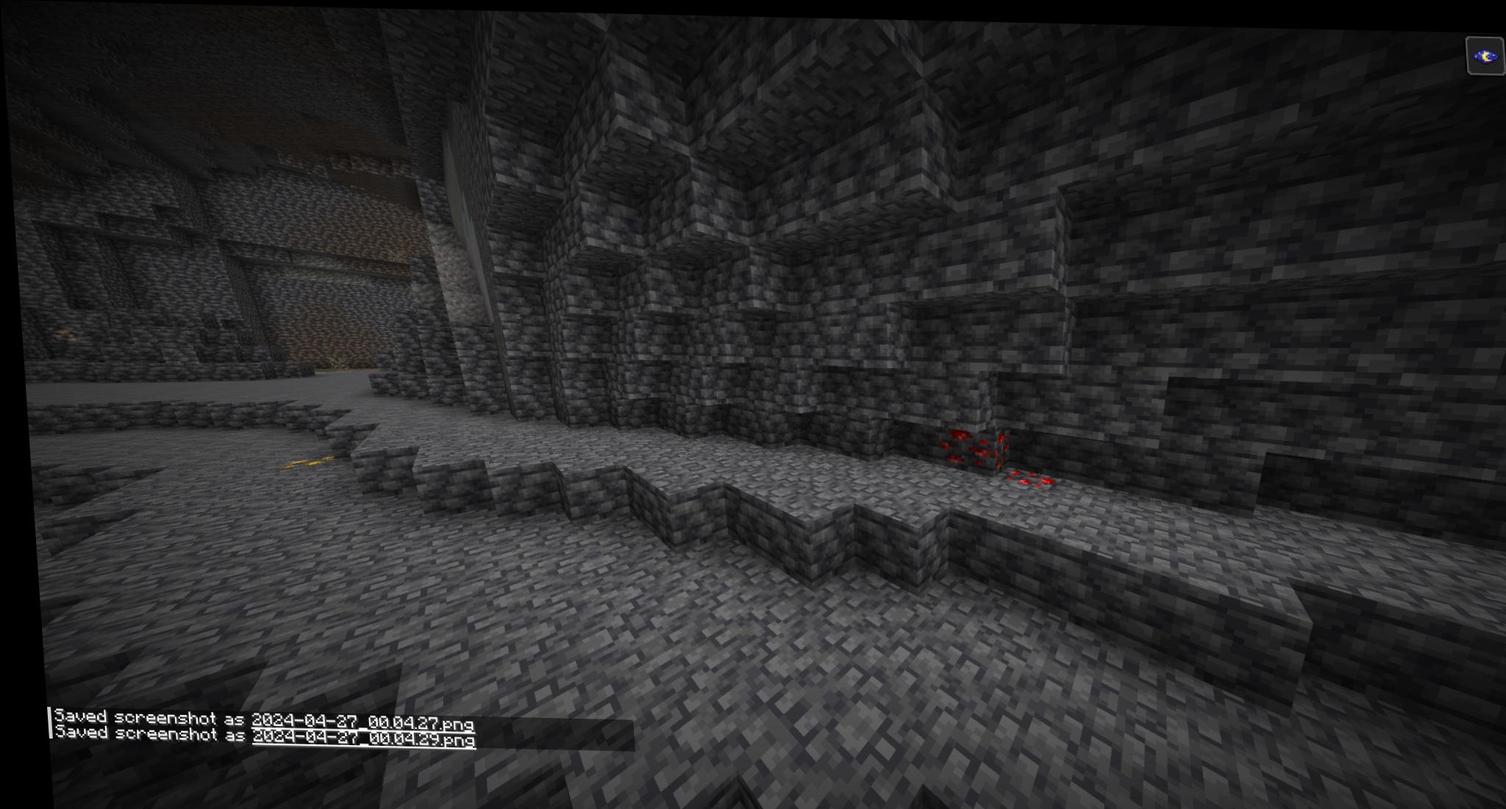gold ore: (279, 450, 328, 473)
iron ore: (44, 319, 73, 348)
redstone ore: (937, 422, 998, 472), (997, 461, 1048, 494)
